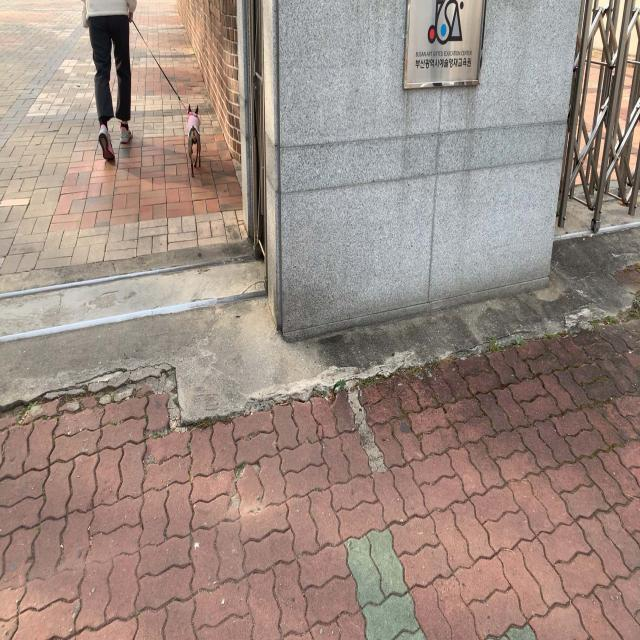Leashed_Dog: (107, 0, 202, 178)
